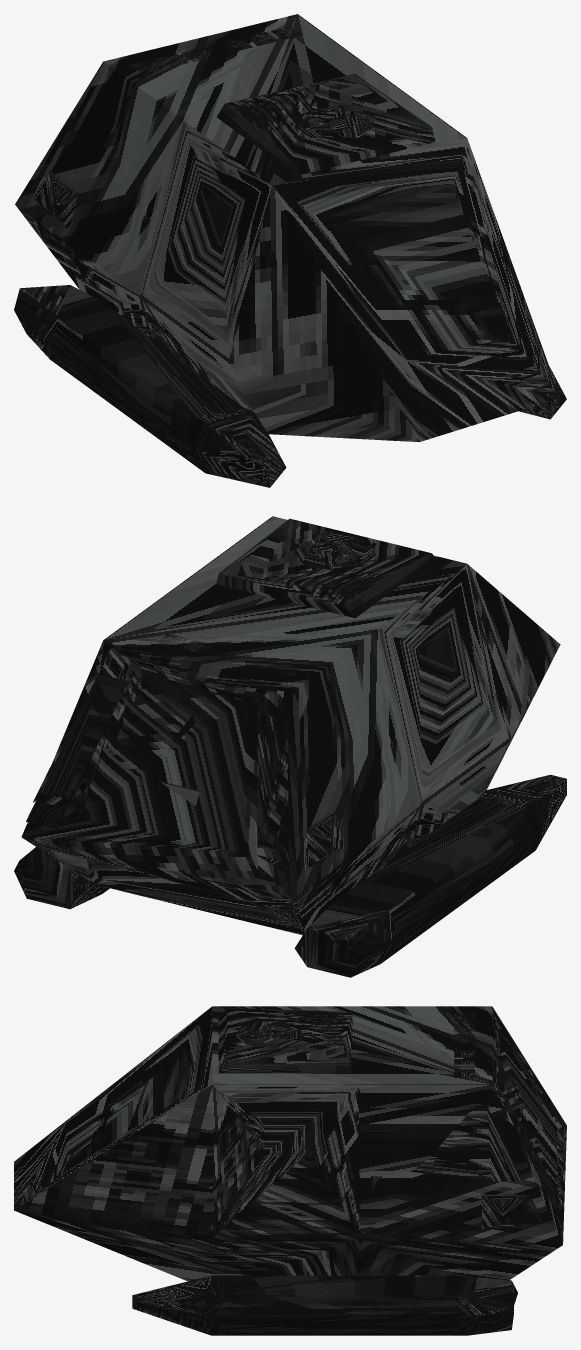
3 renders of one model, top to bottom at view 1: azimuth 30°, elevation 25°; view 2: azimuth 150°, elevation 25°; view 3: azimuth 270°, elevation 25°, orthographic. The views are drawn at different scales.
Visible parts, largest first — view 1: Object_2; view 2: Object_2; view 3: Object_2.
Part boxes in pixels (x1,y1,x2,y2): Object_2: [14, 14, 566, 487]; Object_2: [14, 516, 566, 977]; Object_2: [14, 1006, 566, 1335].
Bounding box in the file's own units: 2.14 × 1.74 × 3.58.
1 material, 1 textured.
